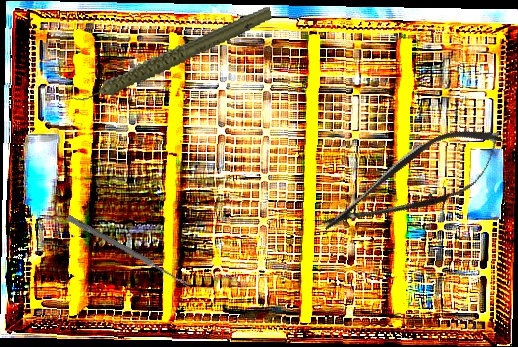Handpiece: (61, 5, 281, 105)
Micro Scissor: (310, 111, 516, 255)
Surgical Spoon: (66, 214, 191, 289)
